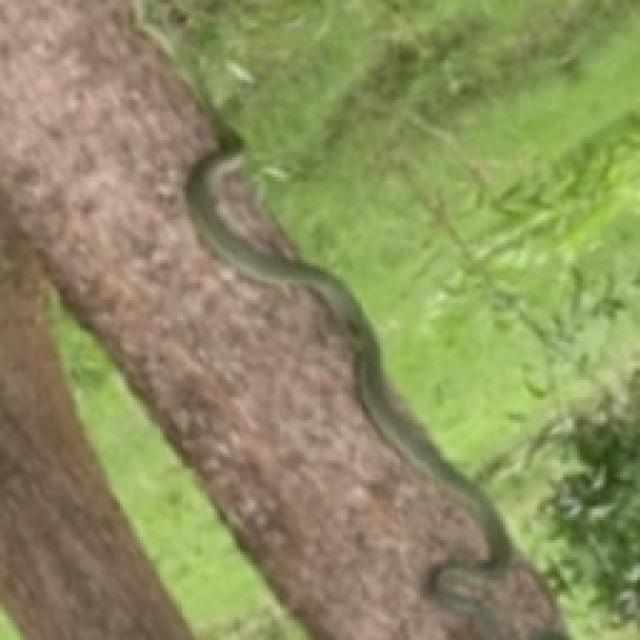paradise tree snake: (186, 146, 563, 637), (289, 460, 366, 571)
